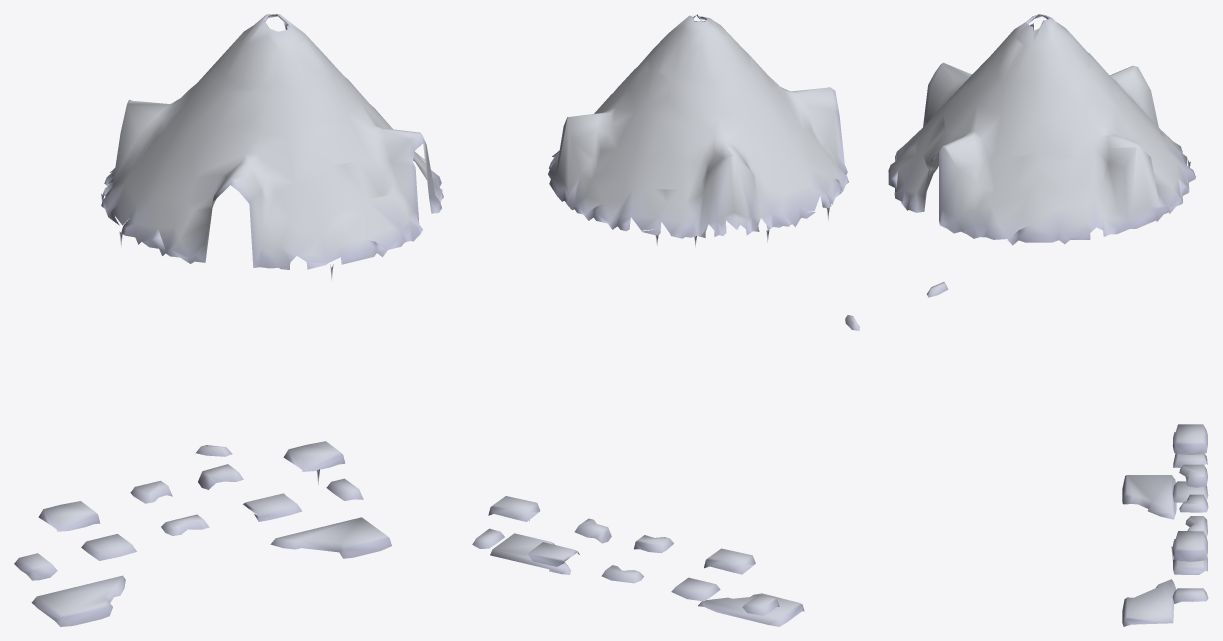
Rendered from hall.wallet.t5.snow.glb.
The picture shows the model from 3 angles, left to right: view 1: azimuth 30°, elevation 25°; view 2: azimuth 150°, elevation 25°; view 3: azimuth 270°, elevation 25°; orthographic projection. The views are drawn at different scales.
Parts seen in each view (by area): view 1: snow; view 2: snow; view 3: snow.
Boxes of the visible parts, box(x1,y1,x2,y2) form: snow: box(14, 14, 443, 626); snow: box(472, 14, 859, 626); snow: box(888, 14, 1208, 626).
Bounding box in the file's own units: 4.09 × 7.09 × 3.8.
